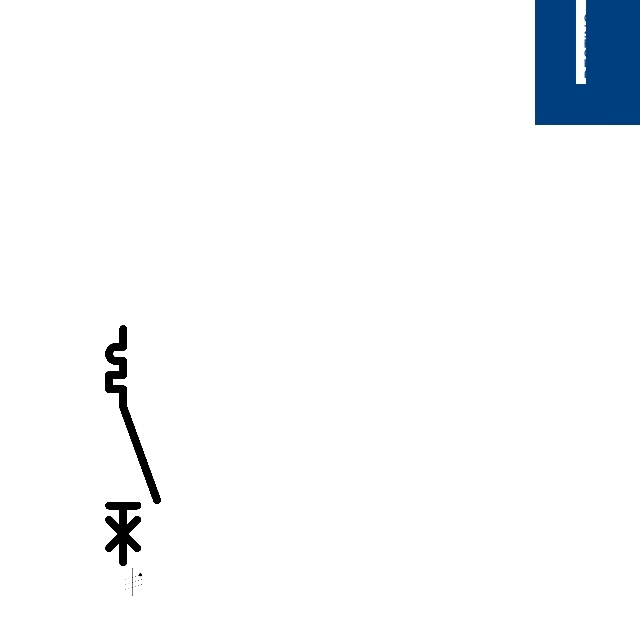interruptor_termomagnetico: (103, 323, 163, 568)
